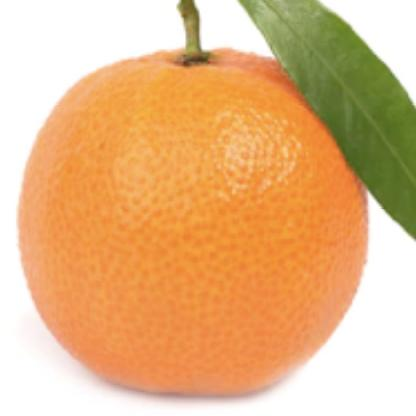fresh: (16, 37, 369, 395)
